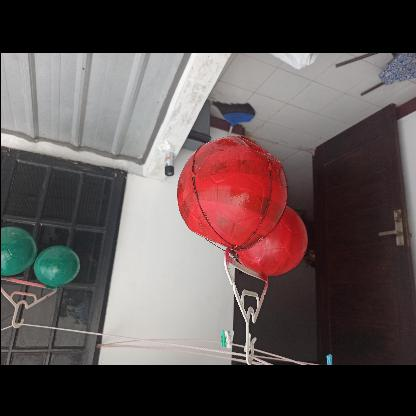red_ball: (176, 137, 286, 247), (231, 201, 305, 275)
